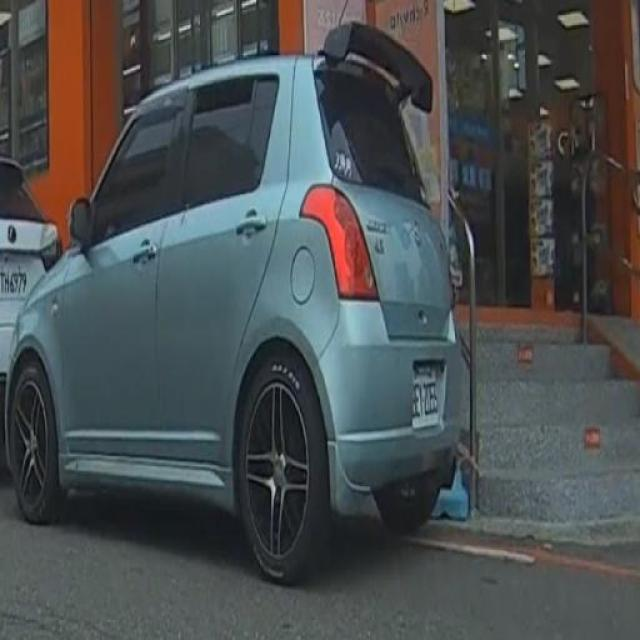Legalparking: (4, 45, 504, 588)
